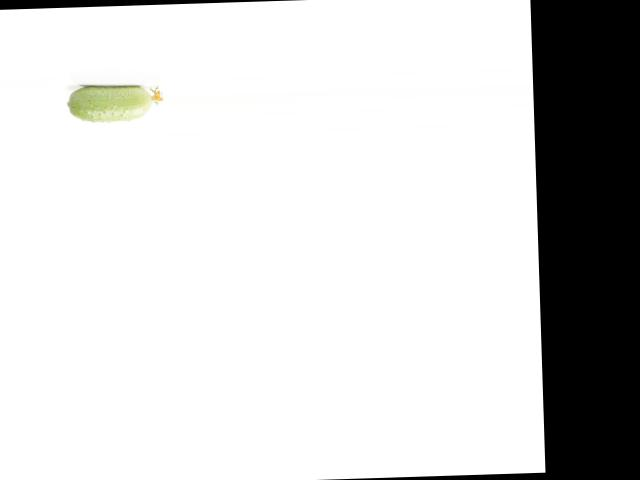cucumber: (65, 82, 162, 122)
